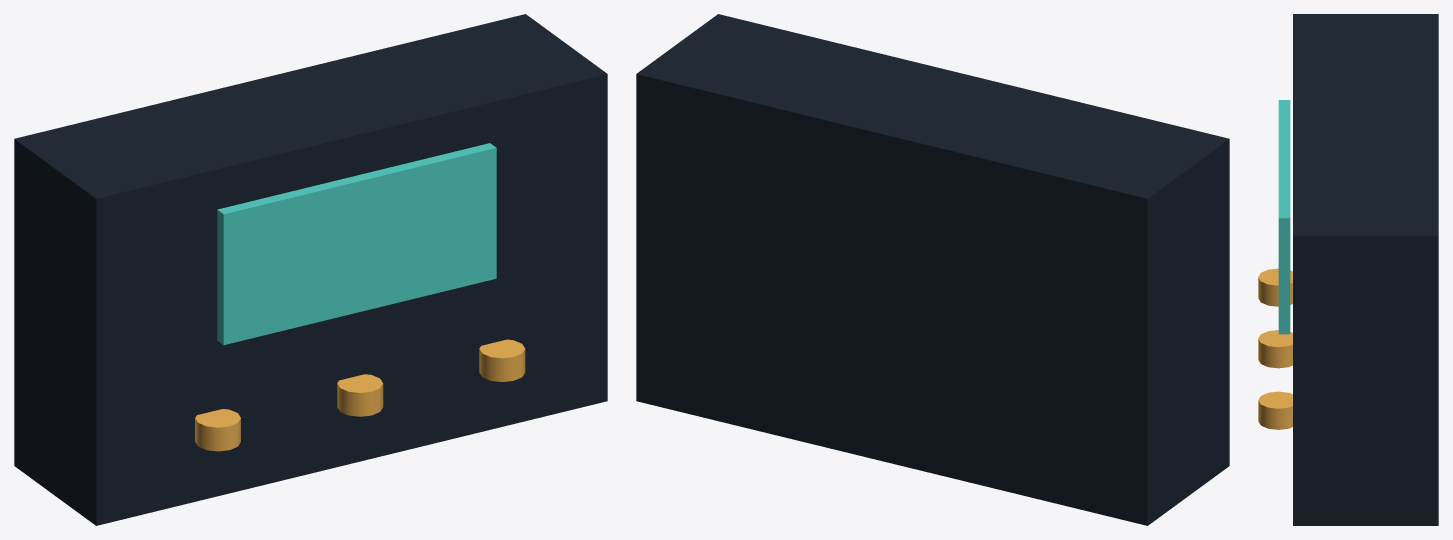
Rendered from logger.glb.
3 renders of one model, left to right at view 1: azimuth 30°, elevation 25°; view 2: azimuth 150°, elevation 25°; view 3: azimuth 270°, elevation 25°, orthographic. The views are drawn at different scales.
Size of the model in its own units: 0.9 by 0.55 by 0.31.
